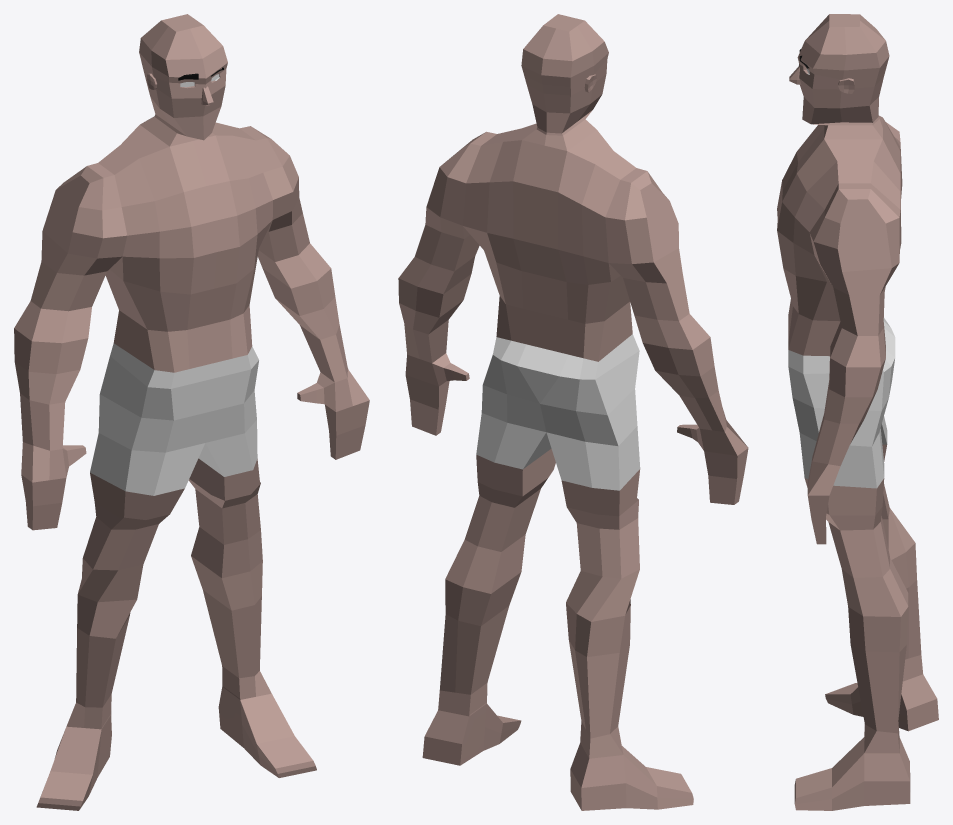
Rendered from human.glb.
3 renders of one model, left to right at view 1: azimuth 30°, elevation 25°; view 2: azimuth 150°, elevation 25°; view 3: azimuth 270°, elevation 25°, orthographic. The views are drawn at different scales.
Visible parts, largest first — view 1: Cube; view 2: Cube; view 3: Cube.
Part boxes in pixels (x1,y1,x2,y2): Cube: (14, 14, 369, 810); Cube: (398, 14, 748, 810); Cube: (777, 14, 938, 810).
Size of the model in its own units: 0.2518 by 0.5396 by 0.1073.
